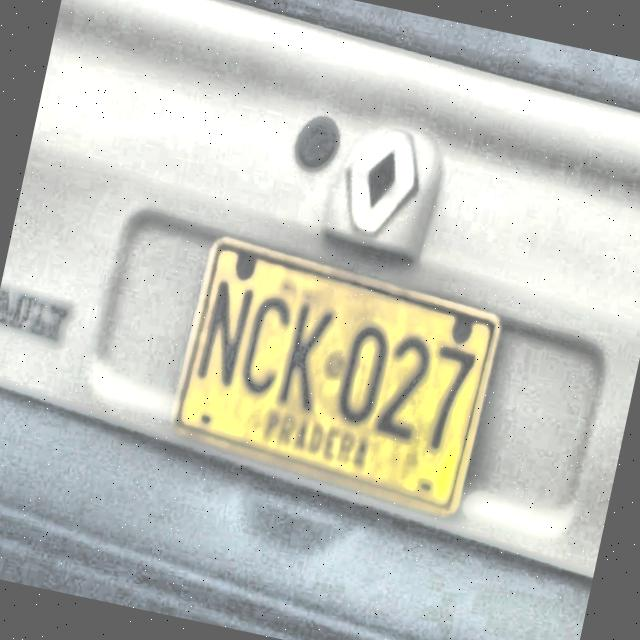0: (330, 316, 395, 433)
2: (369, 329, 439, 447)
7: (414, 341, 482, 457)
C: (233, 290, 297, 401)
K: (271, 300, 344, 416)
N: (191, 277, 259, 392)
